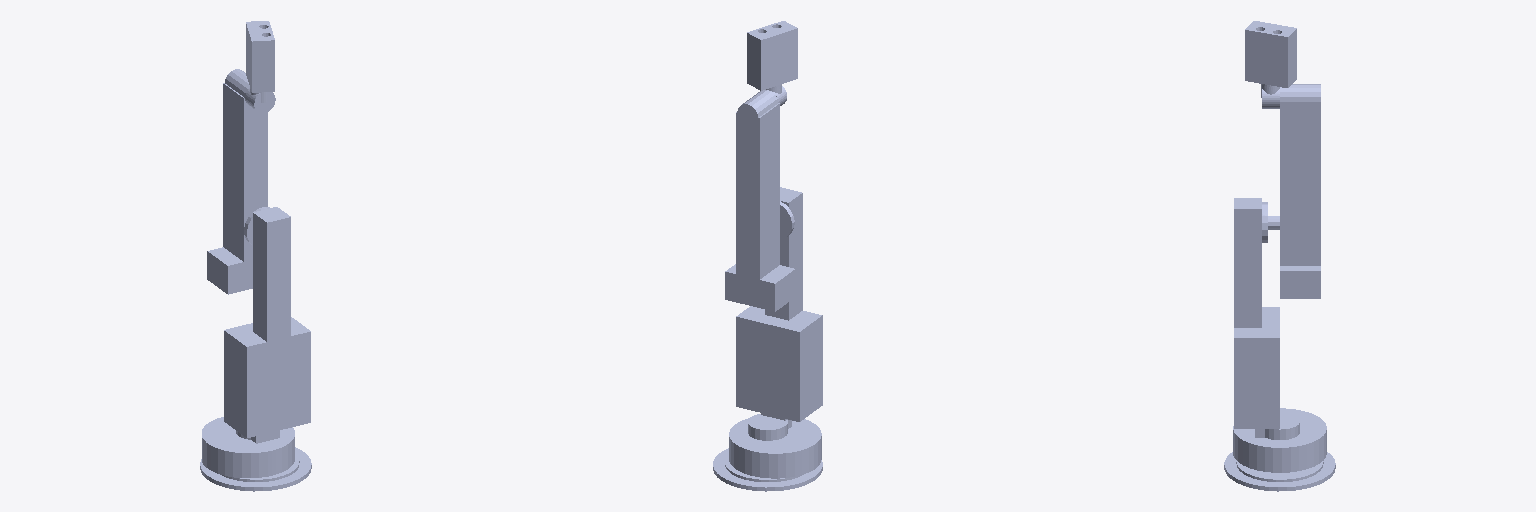
robot.urdf — edwin:
<robot
  name="edwin">
  <link
    name="base_link">
    <inertial>
      <origin
        xyz="-3.7358E-35 -2.529E-18 0.0088139"
        rpy="0 0 0" />
      <mass
        value="1.1856" />
      <inertia
        ixx="0.0059712"
        ixy="4.603E-36"
        ixz="3.0666E-36"
        iyy="0.0059712"
        iyz="-3.325E-19"
        izz="0.011871" />
    </inertial>
    <visual>
      <origin
        xyz="0 0 0"
        rpy="0 0 0" />
      <geometry>
        <mesh
          filename="package://edwin_description/meshes/base_link.STL" />
      </geometry>
      <material
        name="">
        <color
          rgba="0.79216 0.81961 0.93333 1" />
      </material>
    </visual>
    <collision>
      <origin
        xyz="0 0 0"
        rpy="0 0 0" />
      <geometry>
        <mesh
          filename="package://edwin_description/meshes/base_link.STL" />
      </geometry>
    </collision>
  </link>
  <link
    name="link_1">
    <inertial>
      <origin
        xyz="-0.018367 -0.0077664 0.069822"
        rpy="0 0 0" />
      <mass
        value="4.8214" />
      <inertia
        ixx="0.044516"
        ixy="-0.00066637"
        ixz="0.0028019"
        iyy="0.04368"
        iyz="-0.0055911"
        izz="0.03291" />
    </inertial>
    <visual>
      <origin
        xyz="0 0 0"
        rpy="0 0 0" />
      <geometry>
        <mesh
          filename="package://edwin_description/meshes/link_1.STL" />
      </geometry>
      <material
        name="">
        <color
          rgba="0.79216 0.81961 0.93333 1" />
      </material>
    </visual>
    <collision>
      <origin
        xyz="0 0 0"
        rpy="0 0 0" />
      <geometry>
        <mesh
          filename="package://edwin_description/meshes/link_1.STL" />
      </geometry>
    </collision>
  </link>
  <joint
    name="waist"
    type="continuous">
    <origin
      xyz="0 0 0.033268"
      rpy="-6.123E-17 0 0" />
    <parent
      link="base_link" />
    <child
      link="link_1" />
    <axis
      xyz="0 0 -1" />
  </joint>
  <link
    name="link_2">
    <inertial>
      <origin
        xyz="-0.022066 -4.0869E-17 0.067318"
        rpy="0 0 0" />
      <mass
        value="9.0027" />
      <inertia
        ixx="0.034679"
        ixy="-8.4995E-17"
        ixz="-0.009359"
        iyy="0.25195"
        iyz="-2.7073E-18"
        izz="0.26459" />
    </inertial>
    <visual>
      <origin
        xyz="0 0 0"
        rpy="0 0 0" />
      <geometry>
        <mesh
          filename="package://edwin_description/meshes/link_2.STL" />
      </geometry>
      <material
        name="">
        <color
          rgba="0.79216 0.81961 0.93333 1" />
      </material>
    </visual>
    <collision>
      <origin
        xyz="0 0 0"
        rpy="0 0 0" />
      <geometry>
        <mesh
          filename="package://edwin_description/meshes/link_2.STL" />
      </geometry>
    </collision>
  </link>
  <joint
    name="shoulder"
    type="continuous">
    <origin
      xyz="0 0 0.32173"
      rpy="1.5708 1.5708 0" />
    <parent
      link="link_1" />
    <child
      link="link_2" />
    <axis
      xyz="0 0 -1" />
  </joint>
  <link
    name="link_3">
    <inertial>
      <origin
        xyz="-0.066663 -0.0021716 -0.055074"
        rpy="0 0 0" />
      <mass
        value="5.6787" />
      <inertia
        ixx="0.010806"
        ixy="-0.0027104"
        ixz="-3.0213E-18"
        iyy="0.19386"
        iyz="3.8756E-18"
        izz="0.19319" />
    </inertial>
    <visual>
      <origin
        xyz="0 0 0"
        rpy="0 0 0" />
      <geometry>
        <mesh
          filename="package://edwin_description/meshes/link_3.STL" />
      </geometry>
      <material
        name="">
        <color
          rgba="0.79216 0.81961 0.93333 1" />
      </material>
    </visual>
    <collision>
      <origin
        xyz="0 0 0"
        rpy="0 0 0" />
      <geometry>
        <mesh
          filename="package://edwin_description/meshes/link_3.STL" />
      </geometry>
    </collision>
  </link>
  <joint
    name="elbow"
    type="continuous">
    <origin
      xyz="-0.375 0 0"
      rpy="0 0 -1.1442E-17" />
    <parent
      link="link_2" />
    <child
      link="link_3" />
    <axis
      xyz="0 0 1" />
  </joint>
  <link
    name="link_4">
    <inertial>
      <origin
        xyz="0.00548 2.769E-08 -0.0244"
        rpy="0 0 0" />
      <mass
        value="0.20197" />
      <inertia
        ixx="9.4725E-05"
        ixy="2.5567E-10"
        ixz="3.3235E-21"
        iyy="0.00012085"
        iyz="3.6338E-10"
        izz="0.00013378" />
    </inertial>
    <visual>
      <origin
        xyz="0 0 0"
        rpy="0 0 0" />
      <geometry>
        <mesh
          filename="package://edwin_description/meshes/link_4.STL" />
      </geometry>
      <material
        name="">
        <color
          rgba="0.79216 0.81961 0.93333 1" />
      </material>
    </visual>
    <collision>
      <origin
        xyz="0 0 0"
        rpy="0 0 0" />
      <geometry>
        <mesh
          filename="package://edwin_description/meshes/link_4.STL" />
      </geometry>
    </collision>
  </link>
  <joint
    name="hand"
    type="continuous">
    <origin
      xyz="-0.375 0 0"
      rpy="3.1416 0 3.1416" />
    <parent
      link="link_3" />
    <child
      link="link_4" />
    <axis
      xyz="0 0 1" />
  </joint>
  <link
    name="link_5">
    <inertial>
      <origin
        xyz="0.055026 3.4694E-18 -0.0012909"
        rpy="0 0 0" />
      <mass
        value="1.0129" />
      <inertia
        ixx="0.0017382"
        ixy="3.5982E-20"
        ixz="-3.5992E-05"
        iyy="0.0017672"
        iyz="2.1684E-19"
        izz="0.0017689" />
    </inertial>
    <visual>
      <origin
        xyz="0 0 0"
        rpy="0 0 0" />
      <geometry>
        <mesh
          filename="package://edwin_description/meshes/link_5.STL" />
      </geometry>
      <material
        name="">
        <color
          rgba="0.79216 0.81961 0.93333 1" />
      </material>
    </visual>
    <collision>
      <origin
        xyz="0 0 0"
        rpy="0 0 0" />
      <geometry>
        <mesh
          filename="package://edwin_description/meshes/link_5.STL" />
      </geometry>
    </collision>
  </link>
  <joint
    name="wrist"
    type="continuous">
    <origin
      xyz="0.042405 0 -0.0244"
      rpy="-1.9635 6.137E-31 -1.6653E-16" />
    <parent
      link="link_4" />
    <child
      link="link_5" />
    <axis
      xyz="-1 0 0" />
  </joint>

  <transmission name="trans_1">
	  <type>transmission_interface/SimpleTransmission</type>
	  <joint name="waist">
		  <hardwareInterface>PositionJointInterface</hardwareInterface>
	  </joint>
	  <actuator name="motor_1">
		  <hardwareInterface>PositionJointInterface</hardwareInterface>
	  </actuator>
  </transmission>
  <transmission name="trans_2">
	  <type>transmission_interface/SimpleTransmission</type>
	  <joint name="shoulder">
		  <hardwareInterface>PositionJointInterface</hardwareInterface>
	  </joint>
	  <actuator name="motor_2">
		  <hardwareInterface>PositionJointInterface</hardwareInterface>
	  </actuator>
  </transmission>
  <transmission name="trans_3">
	  <type>transmission_interface/SimpleTransmission</type>
	  <joint name="elbow">
		  <hardwareInterface>PositionJointInterface</hardwareInterface>
	  </joint>
	  <actuator name="motor_3">
		  <hardwareInterface>PositionJointInterface</hardwareInterface>
	  </actuator>
  </transmission>
  <transmission name="trans_4">
	  <type>transmission_interface/SimpleTransmission</type>
	  <joint name="hand">
		  <hardwareInterface>PositionJointInterface</hardwareInterface>
	  </joint>
	  <actuator name="motor_4">
		  <hardwareInterface>PositionJointInterface</hardwareInterface>
	  </actuator>
  </transmission>
  <transmission name="trans_5">
	  <type>transmission_interface/SimpleTransmission</type>
	  <joint name="wrist">
		  <hardwareInterface>PositionJointInterface</hardwareInterface>
	  </joint>
	  <actuator name="motor_5">
		  <hardwareInterface>PositionJointInterface</hardwareInterface>
	  </actuator>
  </transmission>
</robot>

--- Facts derived from the render (not from the file) ---
3 views of the same robot in one strip: view 1: azimuth 30°, elevation 25°; view 2: azimuth 150°, elevation 25°; view 3: azimuth 270°, elevation 25° (orthographic).
Robot: edwin — 6 links, 5 joints (5 continuous); root link base_link; default pose: all joints at 0.
Visible links, largest first — view 1: link_2, link_3, link_1, link_5, base_link, link_4; view 2: link_2, link_3, link_1, link_5, base_link; view 3: link_2, link_3, link_1, link_5, base_link.
Link boxes in pixels (<box>): link_2: <box>224,207,310,437</box>; link_3: <box>207,69,267,294</box>; link_1: <box>202,417,294,477</box>; link_5: <box>246,21,274,92</box>; base_link: <box>200,447,311,491</box>; link_4: <box>245,88,275,113</box>; link_2: <box>736,187,822,421</box>; link_3: <box>725,90,795,311</box>; link_1: <box>729,413,821,478</box>; link_5: <box>747,21,797,90</box>; base_link: <box>713,448,822,491</box>; link_2: <box>1234,198,1279,428</box>; link_3: <box>1280,84,1320,298</box>; link_1: <box>1233,408,1326,472</box>; link_5: <box>1245,21,1296,87</box>; base_link: <box>1224,452,1335,491</box>.
Bounding box of the posed robot: 0.2998 × 0.3 × 1.31 m (x, y, z).
6 mesh visuals loaded from 6 distinct referenced files (6 binary STL).
